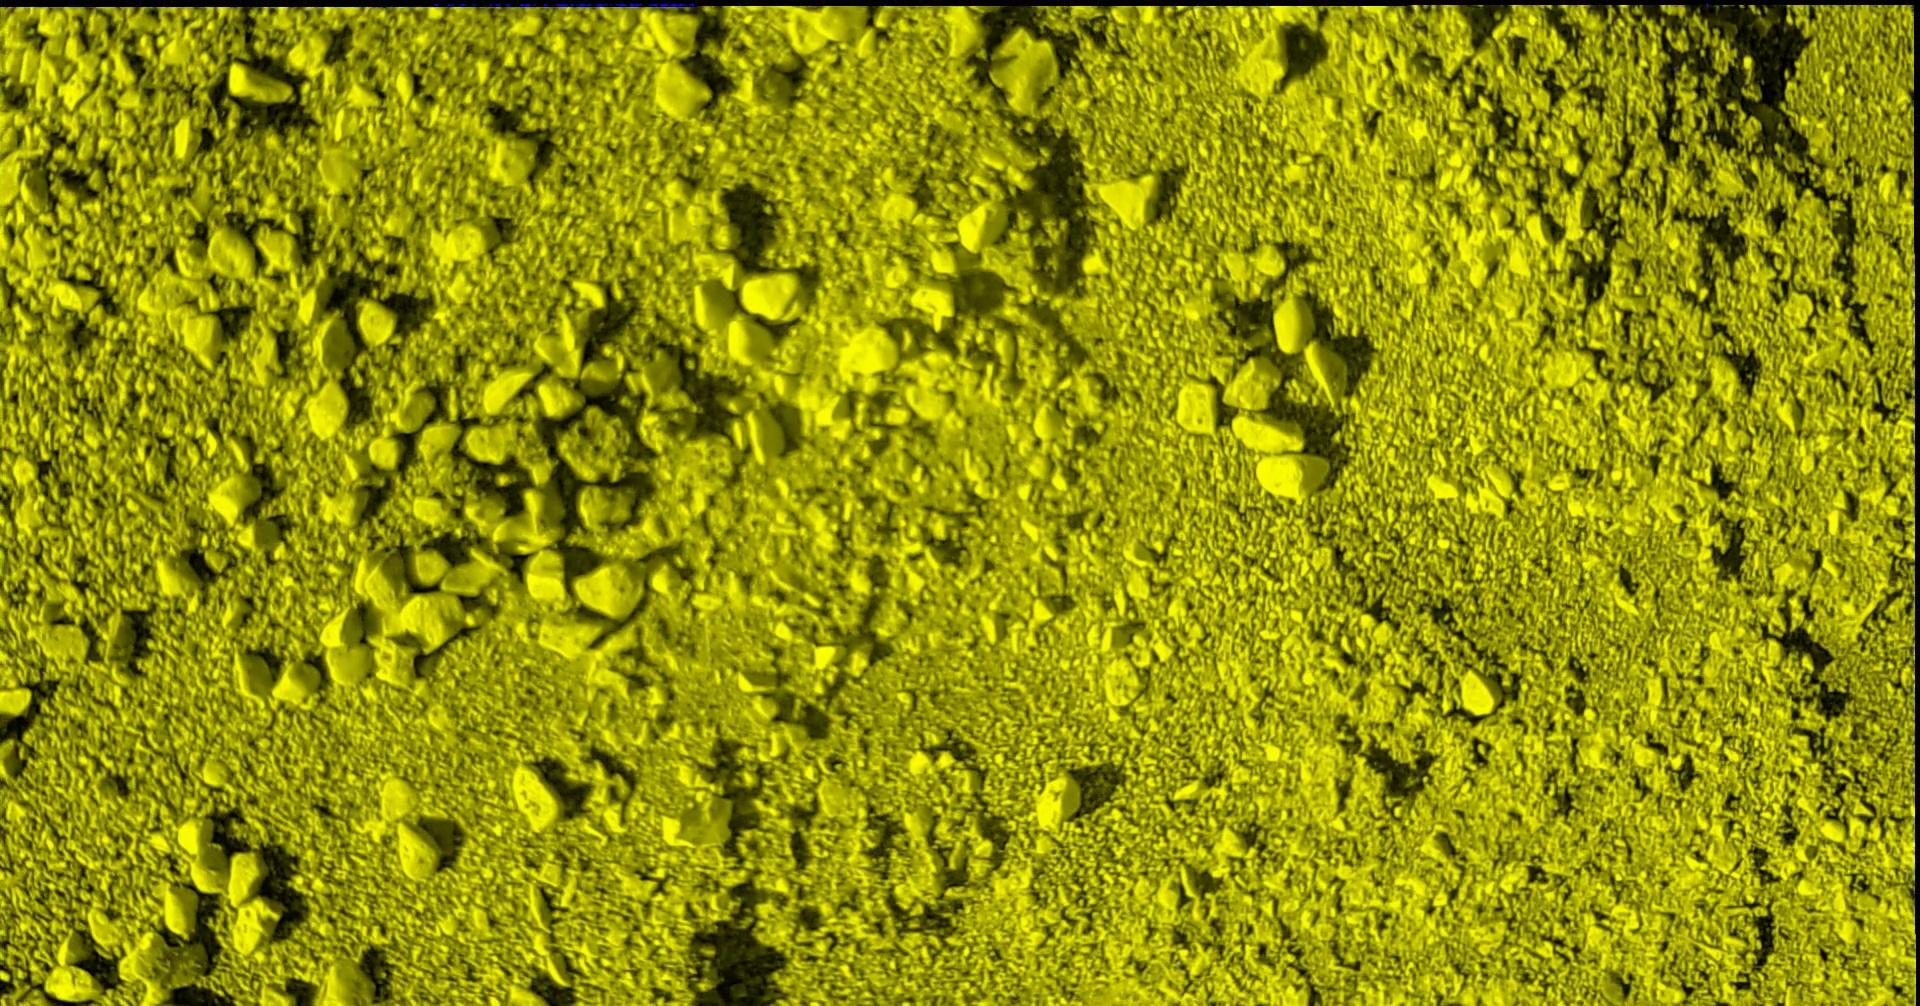ant: (550, 3, 643, 8), (648, 3, 695, 8)
